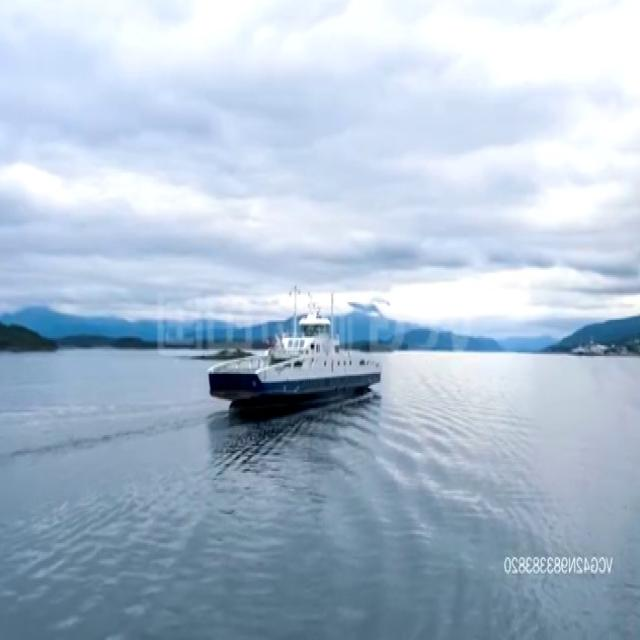houseboat: (210, 296, 382, 409)
